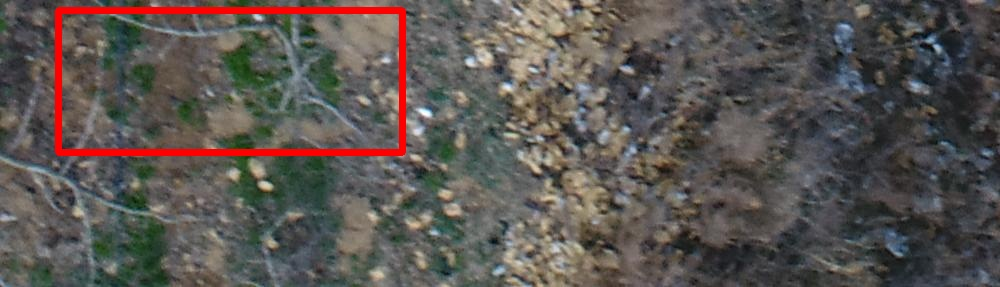apple: (58, 10, 402, 152)
